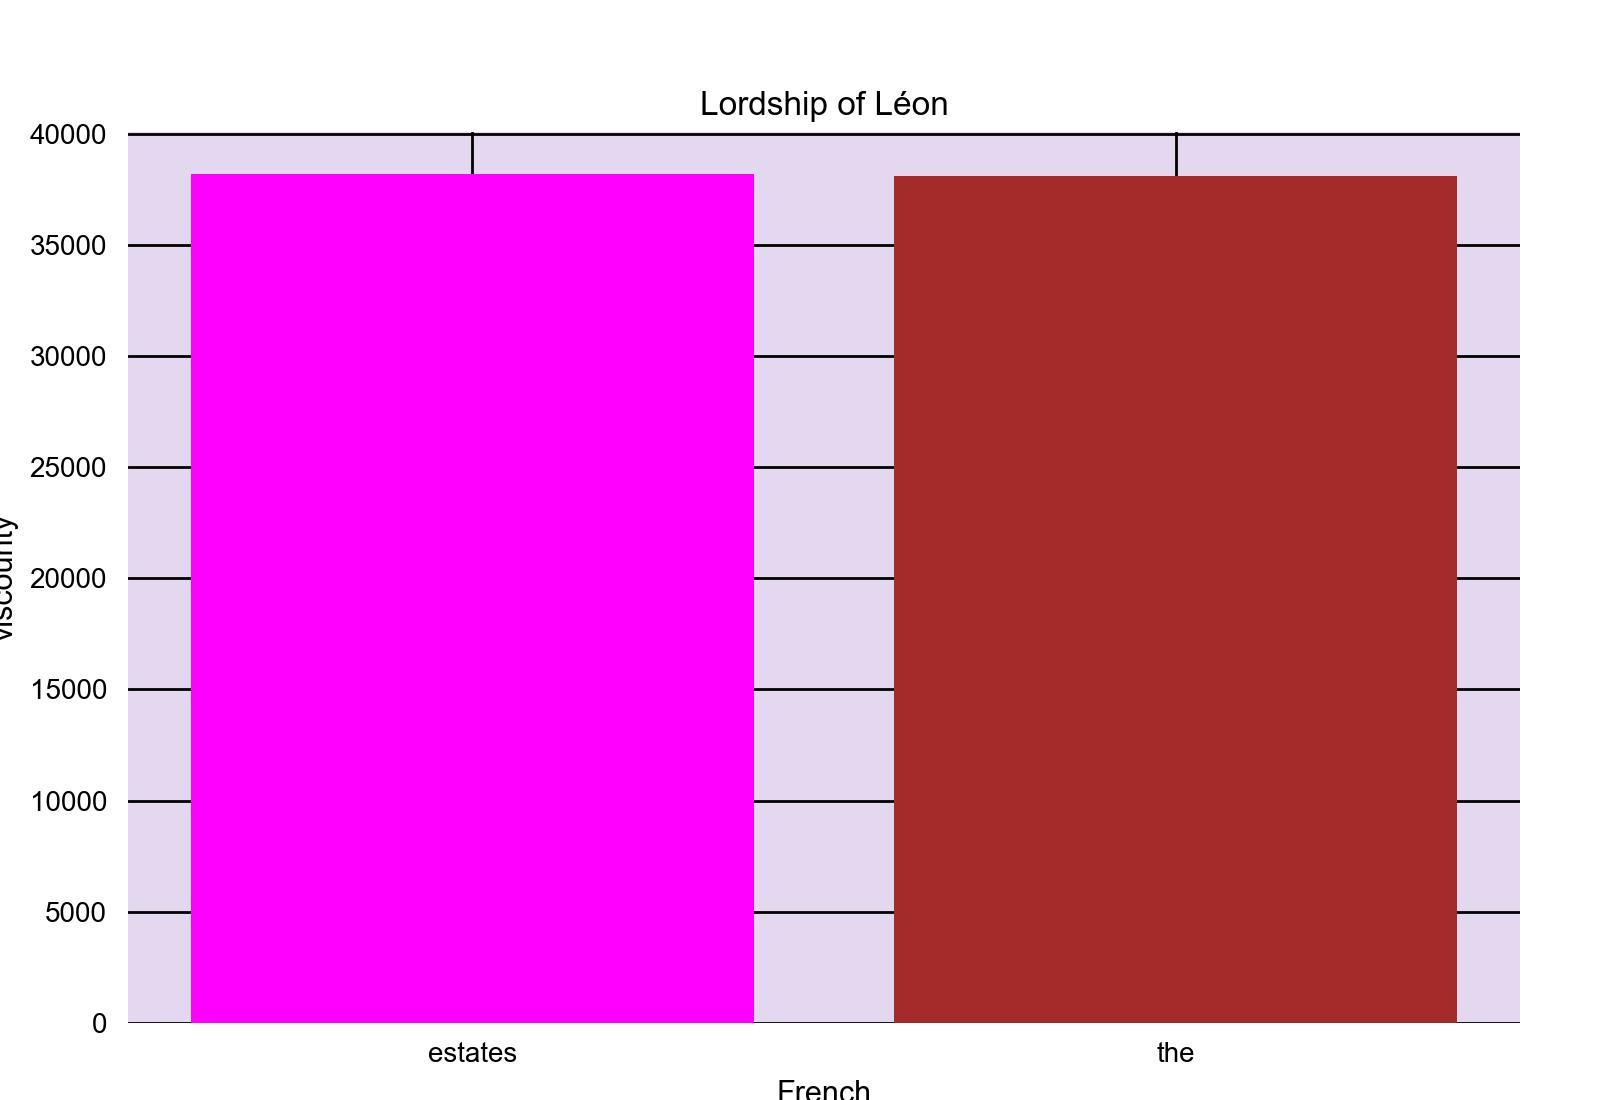axis: (0, 124, 107, 1039)
rectangle: (192, 174, 754, 1023), (895, 176, 1457, 1023)
